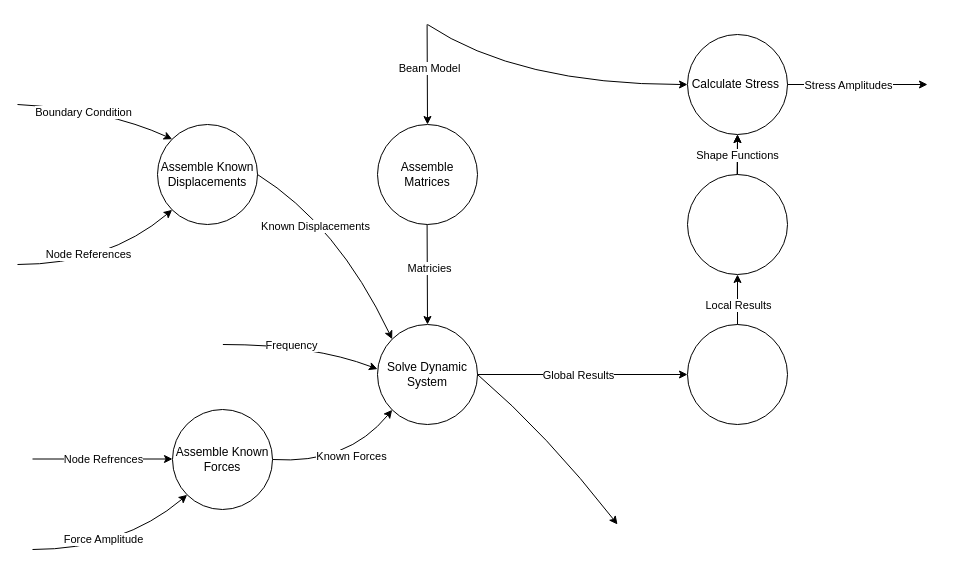
Image size: 953x567. Some labels were removed from this diagram. The shapes that lost their labels are listed below. From the top down, each one's centre as x and y in pixels, then its label:
At point (737, 224): "Calculate Shape Functions".
At point (737, 374): "Transform Results".
